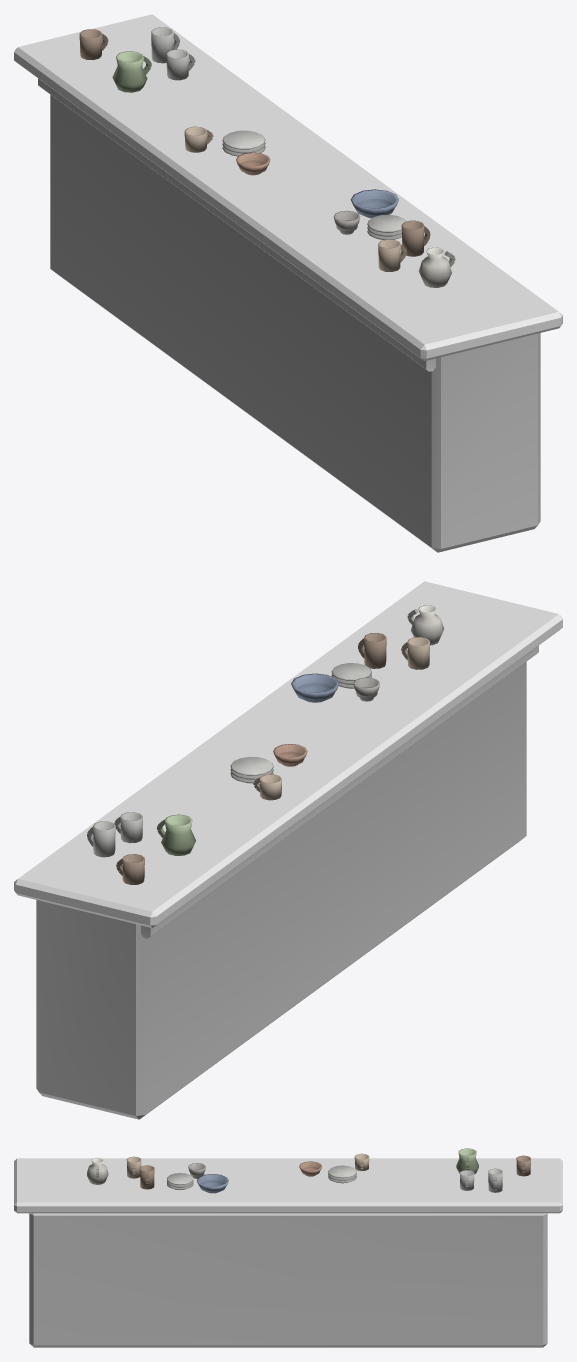
The model's file is tavern_counter.glb.
The picture shows the model from 3 angles, top to bottom: view 1: azimuth 30°, elevation 25°; view 2: azimuth 150°, elevation 25°; view 3: azimuth 270°, elevation 25°; orthographic projection. The views are drawn at different scales.
Parts seen in each view (by area): view 1: bowl; view 2: bowl; view 3: bowl.
Boxes of the visible parts, <box> form: bowl: <box>14,14,562,552</box>; bowl: <box>14,581,562,1119</box>; bowl: <box>14,1148,562,1347</box>.
Bounding box in the file's own units: 0.72 × 1.23 × 3.6.
